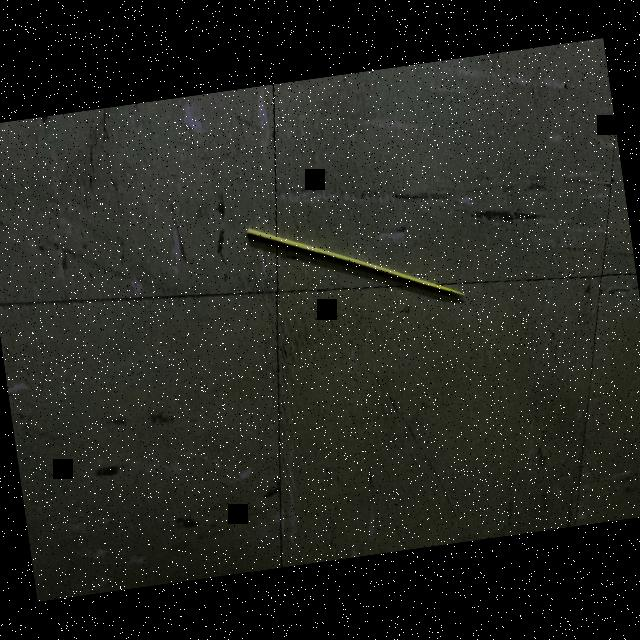stick: (224, 188, 476, 348)
